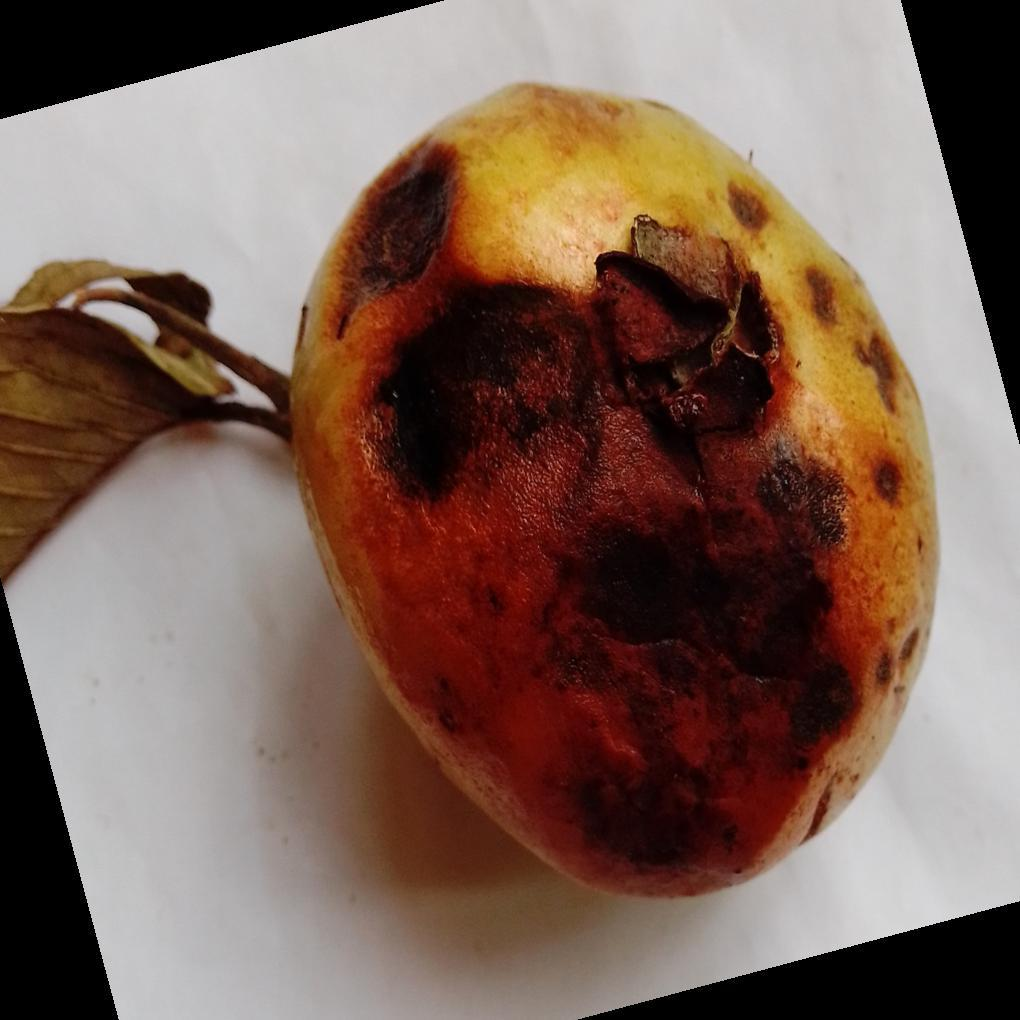FreshOrange: (287, 81, 940, 905)
